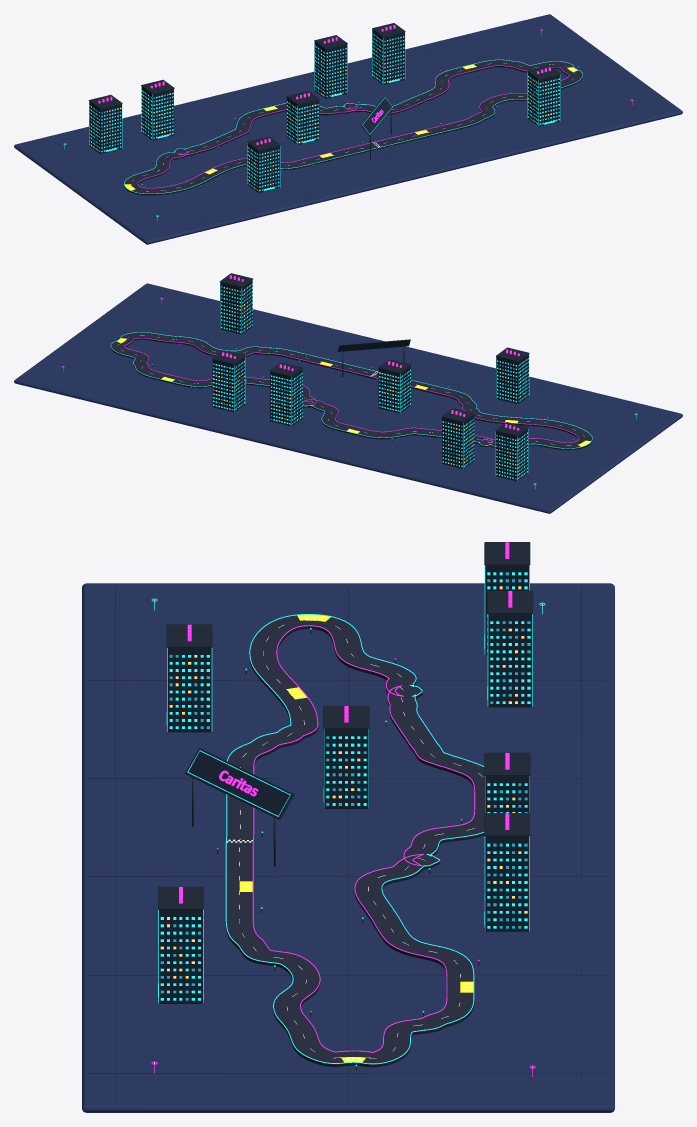
File: app1-circuit.glb
The picture shows the model from 3 angles, top to bottom: view 1: azimuth 30°, elevation 25°; view 2: azimuth 150°, elevation 25°; view 3: azimuth 270°, elevation 25°; orthographic projection. The views are drawn at different scales.
Parts seen in each view (by area): view 1: Monolithic city display plinth, Caritas continuous closed circuit, Neon tower 07 glass mass, Neon tower 02 glass mass, Neon tower 03 glass mass, Neon tower 01 glass mass, Neon tower 06 glass mass, Neon tower 05 glass mass, Neon tower 04 glass mass, Cyan continuous road edge, Magenta continuous road edge, Caritas sign dark glass backing (+3 smaller); view 2: Monolithic city display plinth, Caritas continuous closed circuit, Neon tower 07 glass mass, Neon tower 02 glass mass, Neon tower 03 glass mass, Neon tower 01 glass mass, Neon tower 06 glass mass, Neon tower 05 glass mass, Neon tower 04 glass mass, Cyan continuous road edge, Magenta continuous road edge, Caritas sign dark glass backing (+3 smaller); view 3: Monolithic city display plinth, Caritas continuous closed circuit, Neon tower 02 glass mass, Neon tower 06 glass mass, Neon tower 03 glass mass, Neon tower 05 glass mass, Neon tower 04 glass mass, Caritas sign dark glass backing, Magenta continuous road edge, Cyan continuous road edge, Neon tower 07 glass mass, Neon tower 01 glass mass (+7 smaller).
Boxes of the visible parts, bbox=[...] form: Monolithic city display plinth: bbox=[14, 14, 682, 244]; Caritas continuous closed circuit: bbox=[124, 60, 582, 195]; Neon tower 07 glass mass: bbox=[314, 42, 347, 98]; Neon tower 02 glass mass: bbox=[372, 29, 404, 84]; Neon tower 03 glass mass: bbox=[528, 72, 560, 126]; Neon tower 01 glass mass: bbox=[89, 101, 121, 153]; Neon tower 06 glass mass: bbox=[141, 86, 173, 140]; Neon tower 05 glass mass: bbox=[247, 143, 279, 192]; Neon tower 04 glass mass: bbox=[287, 97, 319, 144]; Cyan continuous road edge: bbox=[124, 59, 582, 193]; Magenta continuous road edge: bbox=[137, 65, 569, 188]; Caritas sign dark glass backing: bbox=[360, 96, 393, 136]; Monolithic city display plinth: bbox=[14, 283, 682, 513]; Caritas continuous closed circuit: bbox=[110, 332, 592, 450]; Neon tower 07 glass mass: bbox=[270, 369, 302, 426]; Neon tower 02 glass mass: bbox=[212, 357, 244, 412]; Neon tower 03 glass mass: bbox=[220, 280, 252, 334]; Neon tower 01 glass mass: bbox=[495, 429, 528, 481]; Neon tower 06 glass mass: bbox=[442, 415, 474, 468]; Neon tower 05 glass mass: bbox=[496, 354, 528, 403]; Neon tower 04 glass mass: bbox=[378, 366, 410, 413]; Cyan continuous road edge: bbox=[110, 332, 592, 448]; Magenta continuous road edge: bbox=[124, 338, 579, 442]; Caritas sign dark glass backing: bbox=[337, 339, 410, 351]; Monolithic city display plinth: bbox=[82, 583, 614, 1112]; Caritas continuous closed circuit: bbox=[226, 615, 484, 1067]; Neon tower 02 glass mass: bbox=[485, 836, 529, 931]; Neon tower 06 glass mass: bbox=[488, 614, 532, 707]; Neon tower 03 glass mass: bbox=[159, 909, 202, 1003]; Neon tower 05 glass mass: bbox=[167, 647, 211, 732]; Neon tower 04 glass mass: bbox=[324, 728, 368, 808]; Caritas sign dark glass backing: bbox=[185, 748, 294, 819]; Magenta continuous road edge: bbox=[252, 625, 475, 1052]; Cyan continuous road edge: bbox=[225, 614, 484, 1064]; Neon tower 07 glass mass: bbox=[485, 776, 529, 812]; Neon tower 01 glass mass: bbox=[485, 565, 529, 655].
Bounding box in the file's own units: 128 × 13.25 × 55.
